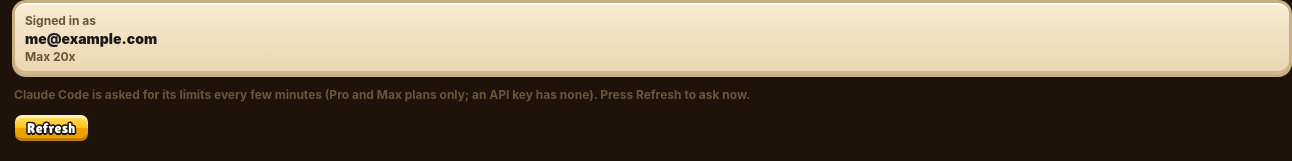
Scenario: the signed-in account shows at the top, and Refresh asks again
Later steps or results of the test are not shown.
Expected: the element with test id "quota-account" reads "Signed in as me@example.com Max 20x", [12, 0, 1291, 77]
Click the button "Refresh". click: [51, 128]
box: [12, 112, 91, 144]
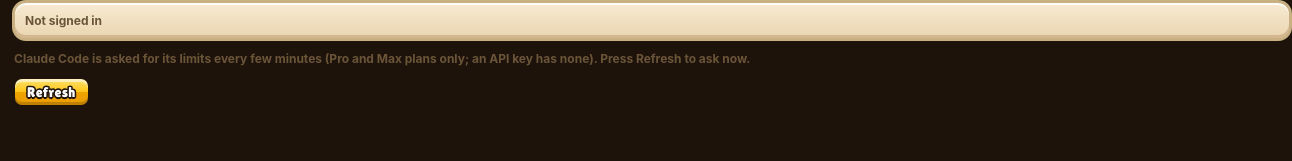
Expected: the element with test id "quota-account" reads "Not signed in", [25, 13, 102, 28]
